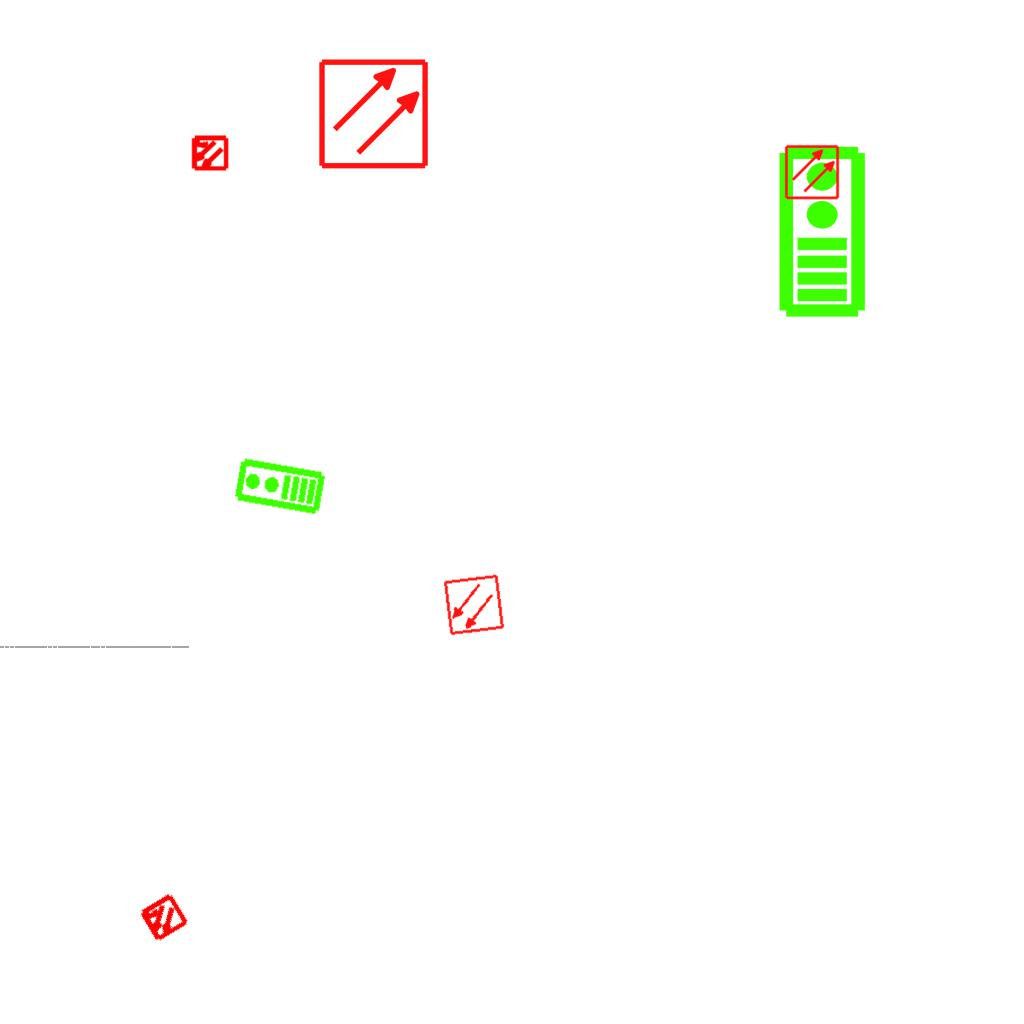Gegensprechanlage_mit_Video: (773, 143, 868, 319), (232, 456, 327, 518)
OT_Multisensormelder_(Kombination_RMO_WMD): (124, 879, 202, 957), (181, 125, 237, 181)
RMO_Rauchmelder_optischer: (317, 57, 430, 170), (442, 573, 506, 637), (784, 144, 840, 200)
